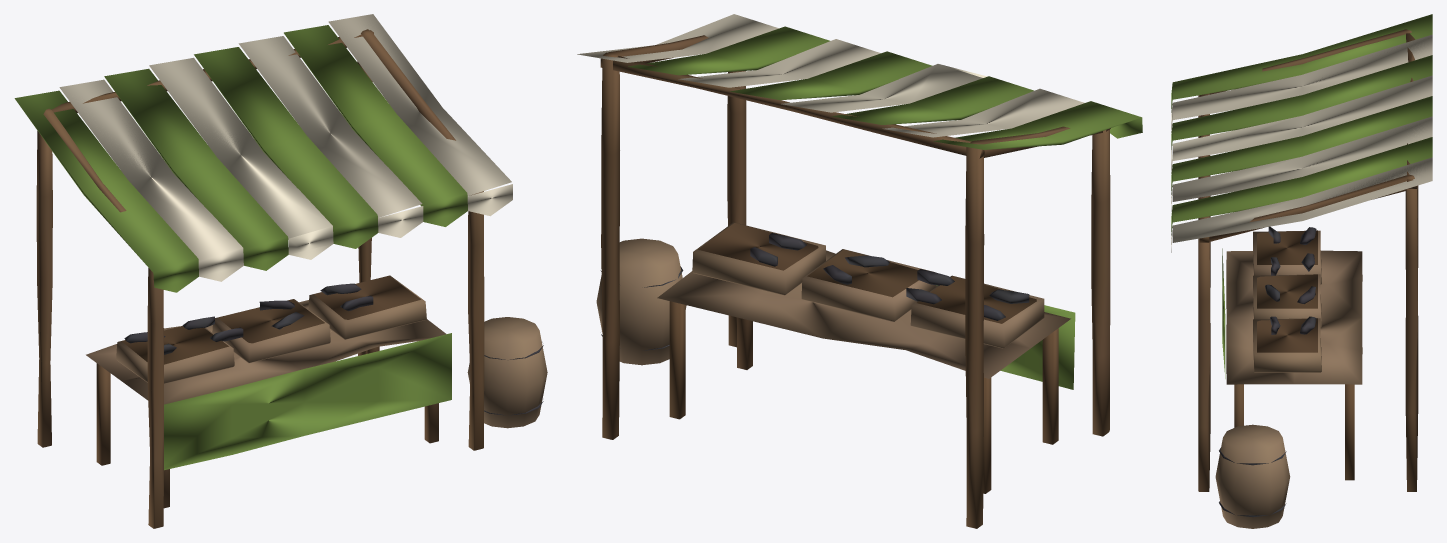
File: biz_stall_t1_fish.glb
3 renders of one model, left to right at view 1: azimuth 30°, elevation 25°; view 2: azimuth 150°, elevation 25°; view 3: azimuth 270°, elevation 25°, orthographic. The views are drawn at different scales.
Parts seen in each view (by area): view 1: cloth_olive, cloth_cream, wood_dark, wood, iron; view 2: wood_dark, wood, cloth_olive, cloth_cream, iron; view 3: cloth_olive, cloth_cream, wood, wood_dark, iron.
Boxes of the visible parts, x1=… form: cloth_olive: x1=14, y1=25, x2=467, y2=470; cloth_cream: x1=59, y1=14, x2=512, y2=281; wood_dark: x1=36, y1=29, x2=484, y2=528; wood: x1=86, y1=275, x2=547, y2=428; iron: x1=124, y1=283, x2=543, y2=415; wood_dark: x1=600, y1=35, x2=1110, y2=528; wood: x1=596, y1=222, x2=1070, y2=378; cloth_olive: x1=628, y1=26, x2=1142, y2=389; cloth_cream: x1=577, y1=14, x2=1084, y2=137; iron: x1=600, y1=233, x2=1029, y2=350; cloth_olive: x1=1171, y1=14, x2=1432, y2=378; cloth_cream: x1=1171, y1=34, x2=1432, y2=252; wood: x1=1215, y1=230, x2=1362, y2=528; wood_dark: x1=1198, y1=29, x2=1418, y2=491; iron: x1=1219, y1=226, x2=1316, y2=517.
Bounding box in the file's own units: 3.37 × 2.56 × 1.89.
